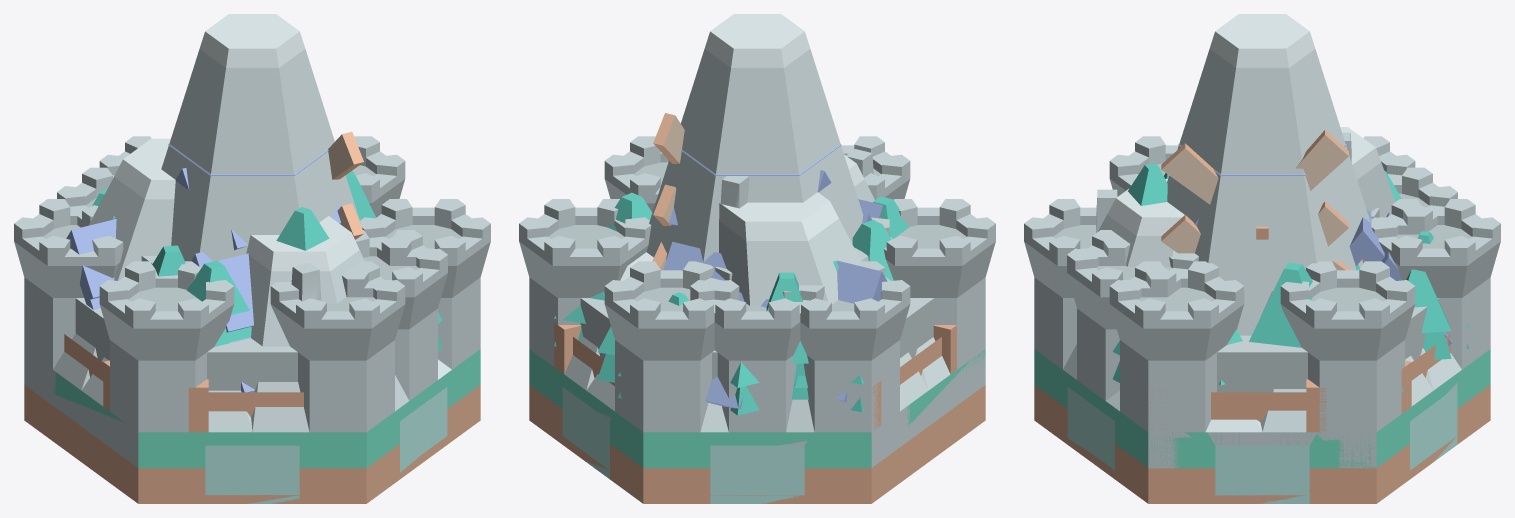
Rendered from hexagon-kit.glb.
The picture shows the model from 3 angles, left to right: view 1: azimuth 30°, elevation 25°; view 2: azimuth 150°, elevation 25°; view 3: azimuth 270°, elevation 25°; orthographic projection.
Visible parts, largest first — view 1: building_castle, stone_mountain, river_corner, building_wall, building_cabin, river_corner60, river_cornerSharp, building_sheep, river_intersectionA, river_straight60, building_smelter, river_crossing (+10 smaller); view 2: building_castle, stone_mountain, river_crossing, building_wall, building_cabin, building_sheep, building_mill, river_intersectionD, river_corner120, river_straight120, building_village, river_intersectionC (+12 smaller); view 3: building_castle, stone_mountain, building_wall, river_corner120, building_cabin, river_crossing, building_sheep, river_cornerSharp, building_mill, grass_forest, river_straight60, unit_mill (+9 smaller).
Boxes of the visible parts, left/top/right/bottom form: building_castle: left=14, top=136, right=490, bottom=432; stone_mountain: left=53, top=14, right=451, bottom=432; river_corner: left=147, top=432, right=342, bottom=503; building_wall: left=57, top=167, right=447, bottom=400; building_cabin: left=24, top=168, right=329, bottom=503; river_corner60: left=138, top=386, right=451, bottom=503; river_cornerSharp: left=383, top=352, right=477, bottom=489; building_sheep: left=24, top=304, right=303, bottom=432; river_intersectionA: left=205, top=358, right=477, bottom=503; river_straight60: left=138, top=432, right=366, bottom=503; building_smelter: left=218, top=253, right=321, bottom=392; river_crossing: left=148, top=415, right=439, bottom=503; building_castle: left=519, top=136, right=995, bottom=432; stone_mountain: left=564, top=14, right=950, bottom=432; river_crossing: left=537, top=360, right=984, bottom=503; building_wall: left=597, top=266, right=824, bottom=432; building_cabin: left=597, top=170, right=985, bottom=503; building_sheep: left=554, top=322, right=956, bottom=429; building_mill: left=554, top=113, right=808, bottom=399; river_intersectionD: left=704, top=433, right=857, bottom=503; river_corner120: left=644, top=360, right=970, bottom=503; river_straight120: left=643, top=432, right=871, bottom=503; building_village: left=558, top=219, right=893, bottom=328; river_intersectionC: left=665, top=433, right=862, bottom=503; building_castle: left=1024, top=136, right=1500, bottom=503; stone_mountain: left=1063, top=14, right=1461, bottom=432; building_wall: left=1067, top=167, right=1457, bottom=400; river_corner120: left=1034, top=351, right=1345, bottom=503; building_cabin: left=1128, top=132, right=1458, bottom=503; river_crossing: left=1051, top=365, right=1477, bottom=495; building_sheep: left=1148, top=334, right=1450, bottom=432; river_cornerSharp: left=1052, top=375, right=1144, bottom=497; building_mill: left=1161, top=130, right=1403, bottom=391; grass_forest: left=1249, top=262, right=1312, bottom=347; river_straight60: left=1376, top=349, right=1490, bottom=503; unit_mill: left=1161, top=201, right=1348, bottom=253.
Bounding box in the file's own units: 1.04 × 1.09 × 1.21.
